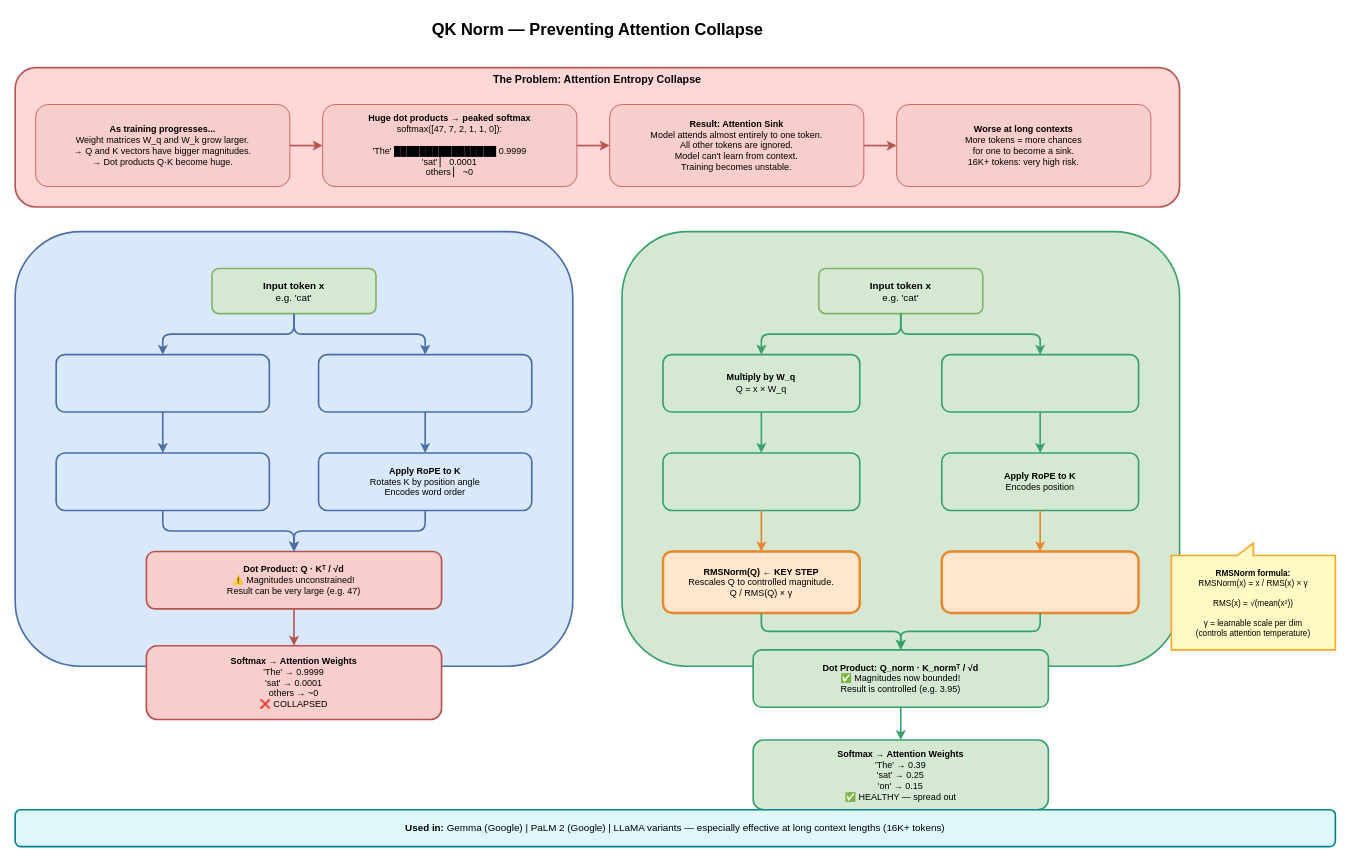
This 1350x861 diagram has some shape labels left out. The shapes that lost their labels are listed below. From the top down, each one's box as (x1, y1, x2, y2) in pixels, then its label:
(55, 353, 270, 412): Multiply by W_q Q = x × W_q Learns 'what to look for'
(317, 353, 532, 412): Multiply by W_k K = x × W_k Learns 'what it contains'
(941, 353, 1139, 412): Multiply by W_k K = x × W_k
(14, 230, 573, 667): Standard Attention (No QK Norm)
(621, 230, 1180, 667): QK Norm Attention ✨
(55, 452, 270, 511): Apply RoPE to Q Rotates Q by position angle Encodes word order
(662, 452, 860, 511): Apply RoPE to Q Encodes position
(940, 550, 1139, 614): RMSNorm(K) ← KEY STEP Rescales K to controlled magnitude. K / RMS(K) × γ
